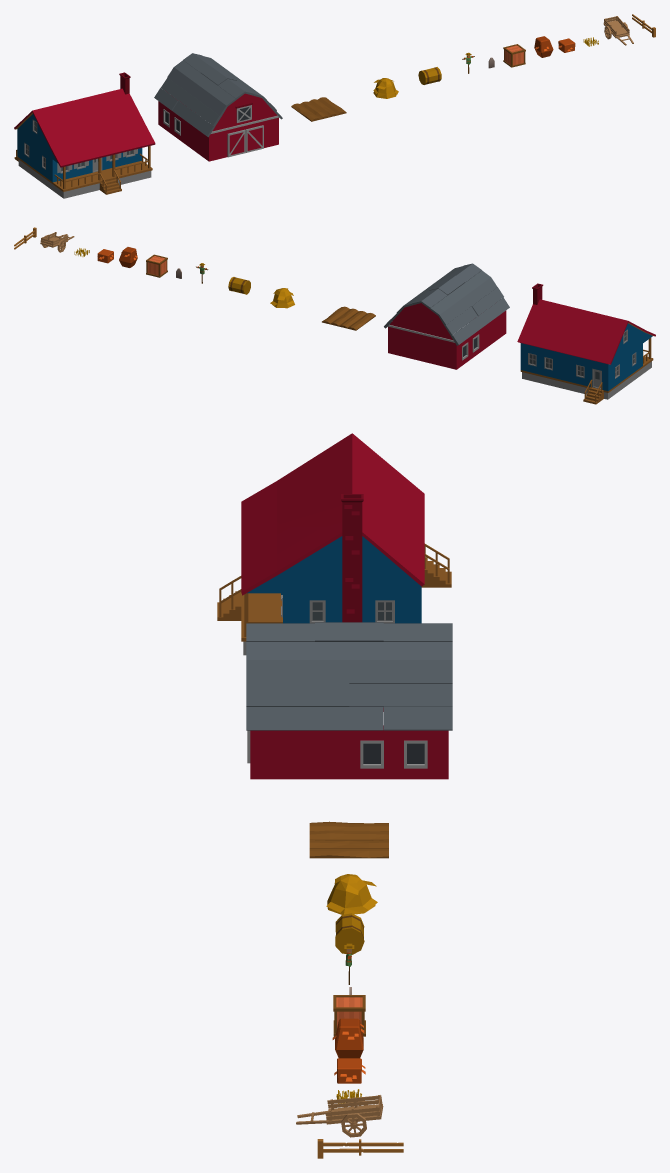
The picture shows the model from 3 angles, top to bottom: view 1: azimuth 30°, elevation 25°; view 2: azimuth 150°, elevation 25°; view 3: azimuth 270°, elevation 25°; orthographic projection. The views are drawn at different scales.
Visible parts, largest first — view 1: building-house-family-small, farm-house, farm-house.001, 1, Cube, hay-pile, haystack, Bush001; view 2: building-house-family-small, farm-house, farm-house.001, Cube, 1, hay-pile, haystack, Bush001; view 3: farm-house, building-house-family-small, farm-house.001, 1, hay-pile, Bush001.
Part boxes in pixels (x1,y1,x2,y2): building-house-family-small: (14,72,155,198); farm-house: (154,53,282,161); farm-house.001: (291,97,346,121); 1: (603,16,633,45); Cube: (503,44,525,67); hay-pile: (373,78,398,98); haystack: (418,67,441,84); Bush001: (534,36,553,57); building-house-family-small: (517,283,655,404); farm-house: (384,263,509,369); farm-house.001: (322,306,375,330); Cube: (146,254,167,277); 1: (40,232,74,252); hay-pile: (270,288,294,308); haystack: (228,277,250,294); Bush001: (119,247,137,267); farm-house: (246,622,452,779); building-house-family-small: (217,433,451,655); farm-house.001: (309,821,388,858); 1: (296,1095,383,1137); hay-pile: (326,874,377,914); Bush001: (332,1018,364,1058).
Size of the model in its own units: 70.15 by 9.04 by 11.85.
